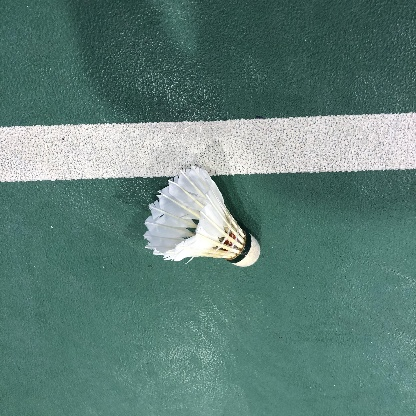ball_single: (143, 166, 260, 267)
